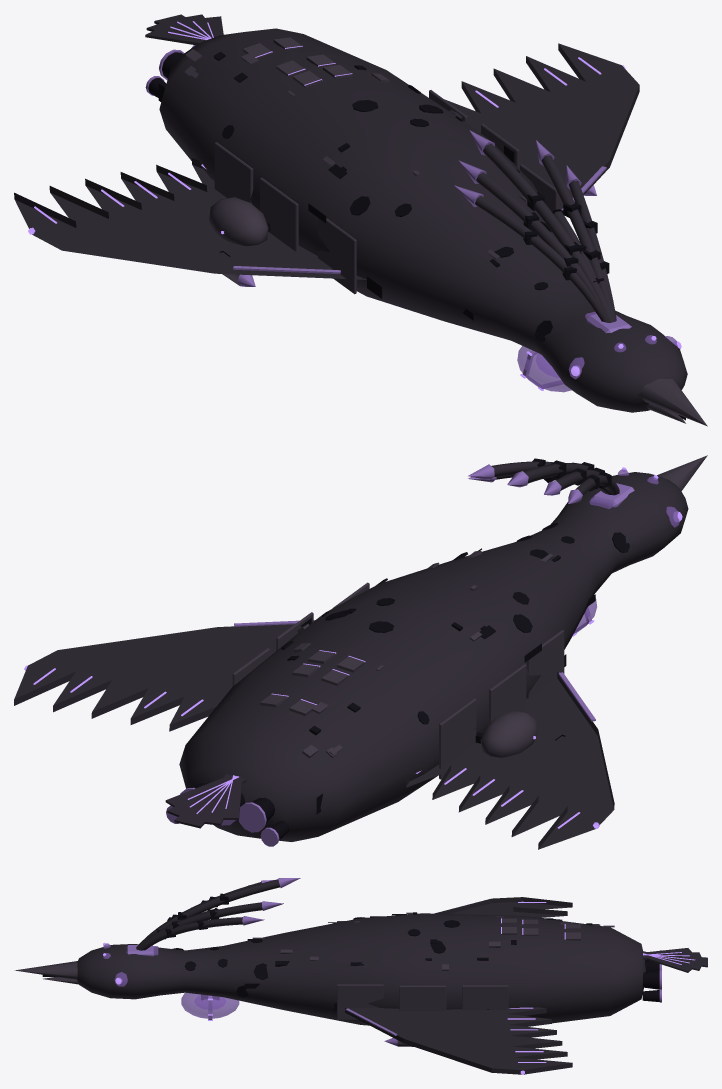
Rendered from choral-piesniarze-coalition-31-lod0.glb.
The picture shows the model from 3 angles, top to bottom: view 1: azimuth 30°, elevation 25°; view 2: azimuth 150°, elevation 25°; view 3: azimuth 270°, elevation 25°; orthographic projection. The views are drawn at different scales.
Size of the model in its own units: 60.08 by 20.55 by 94.35.
